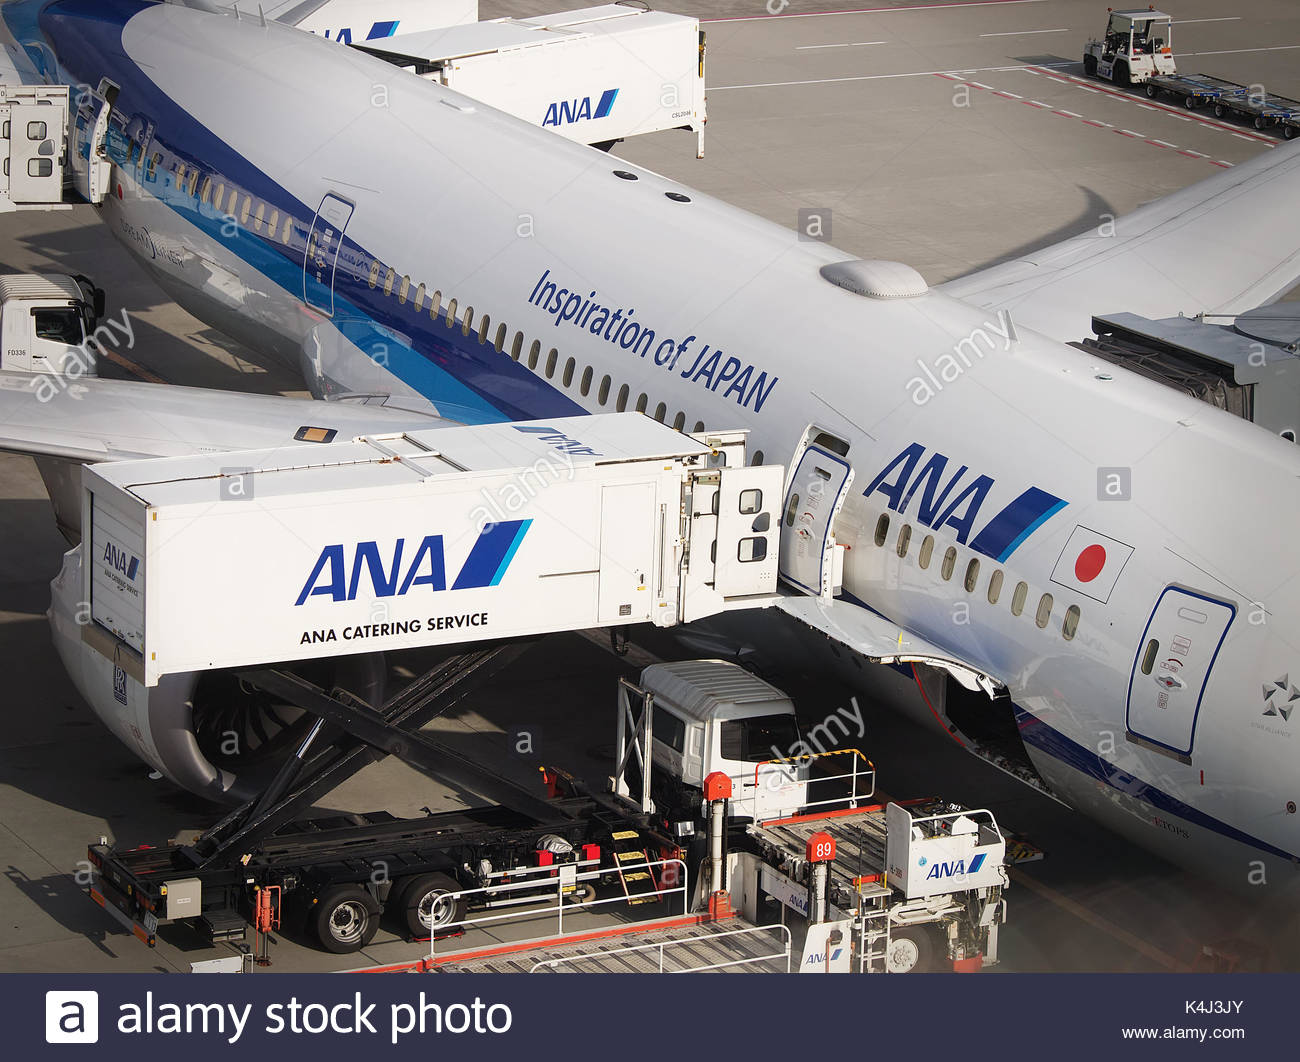Catering truck: (49, 392, 842, 903)
